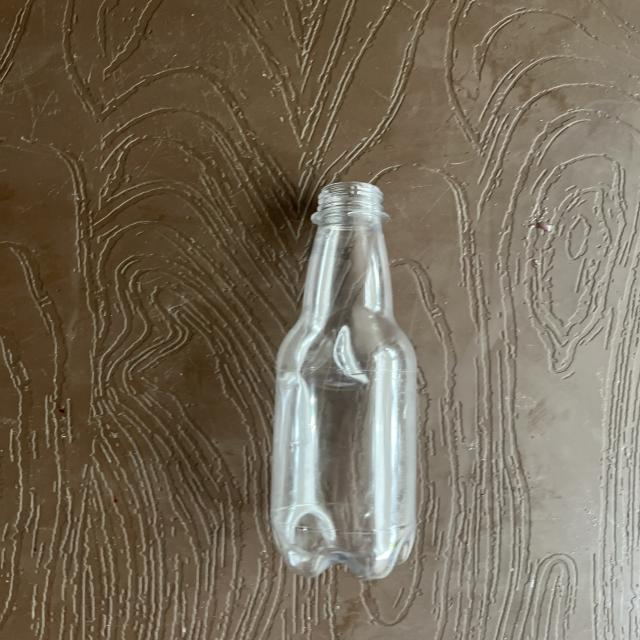PET_ClearBottle: (259, 183, 424, 574)
